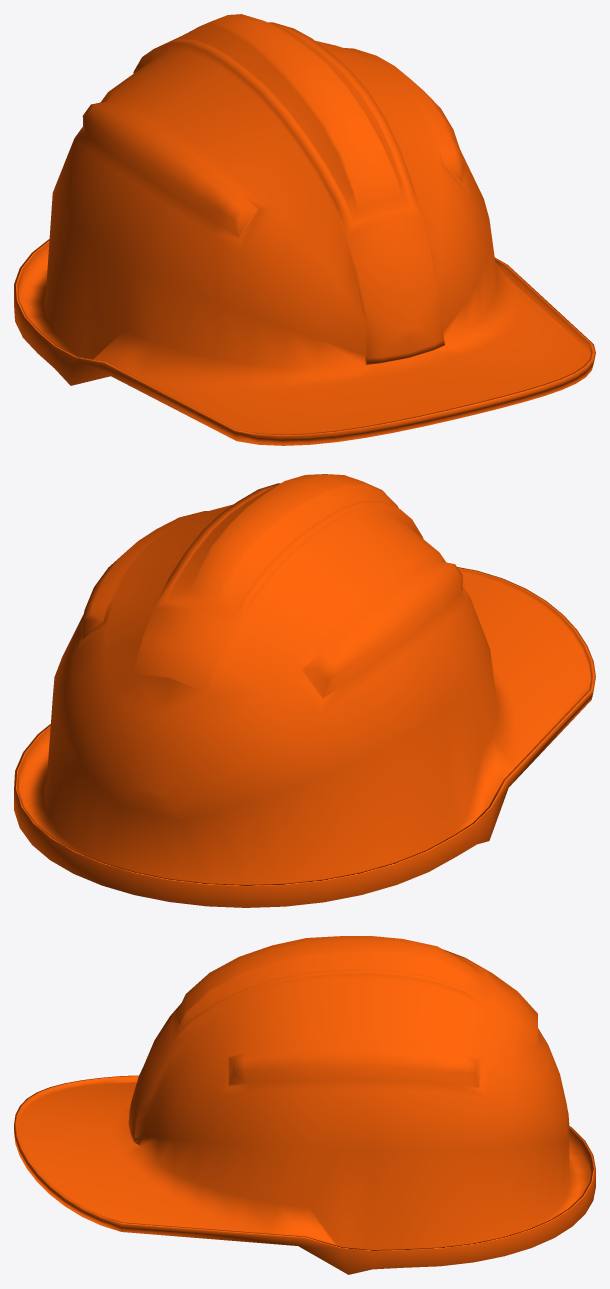
File: safety_helmet.glb
The picture shows the model from 3 angles, top to bottom: view 1: azimuth 30°, elevation 25°; view 2: azimuth 150°, elevation 25°; view 3: azimuth 270°, elevation 25°; orthographic projection. The views are drawn at different scales.
Parts seen in each view (by area): view 1: Helmet_lambert1_0_5; view 2: Helmet_lambert1_0_5; view 3: Helmet_lambert1_0_5.
Part boxes in pixels (x1,y1,x2,y2): Helmet_lambert1_0_5: (14, 14, 595, 445); Helmet_lambert1_0_5: (14, 474, 595, 907); Helmet_lambert1_0_5: (14, 936, 595, 1274).
Bounding box in the file's own units: 2.23 × 1.48 × 3.15.
